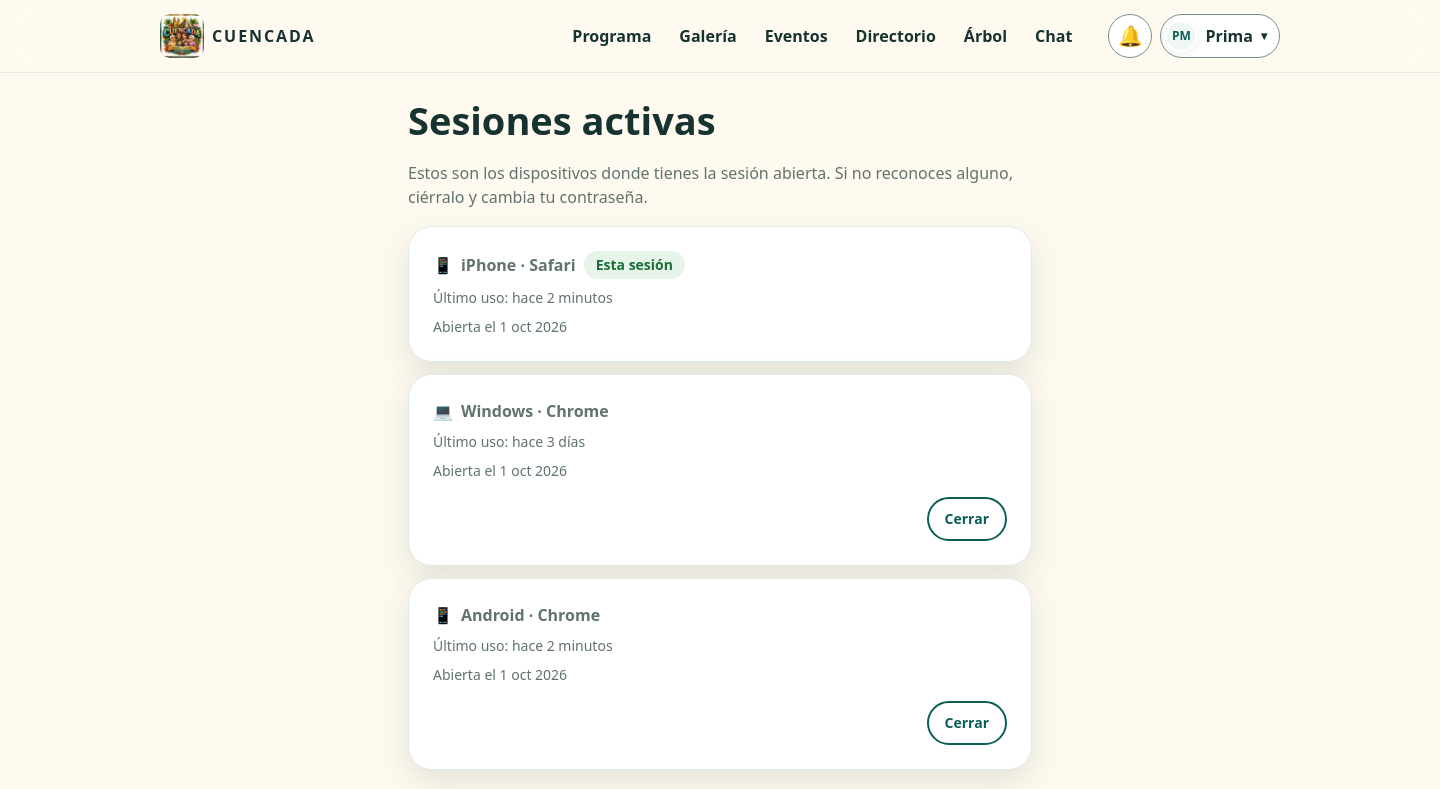
Scenario: SessionsPage › revokes one session and refreshes the list
This screenshot has width=1440, height=789.
Click the button with aria-label "Cerrar la sesión de Windows · Chrome" at (967, 519), box [927, 497, 1007, 541]
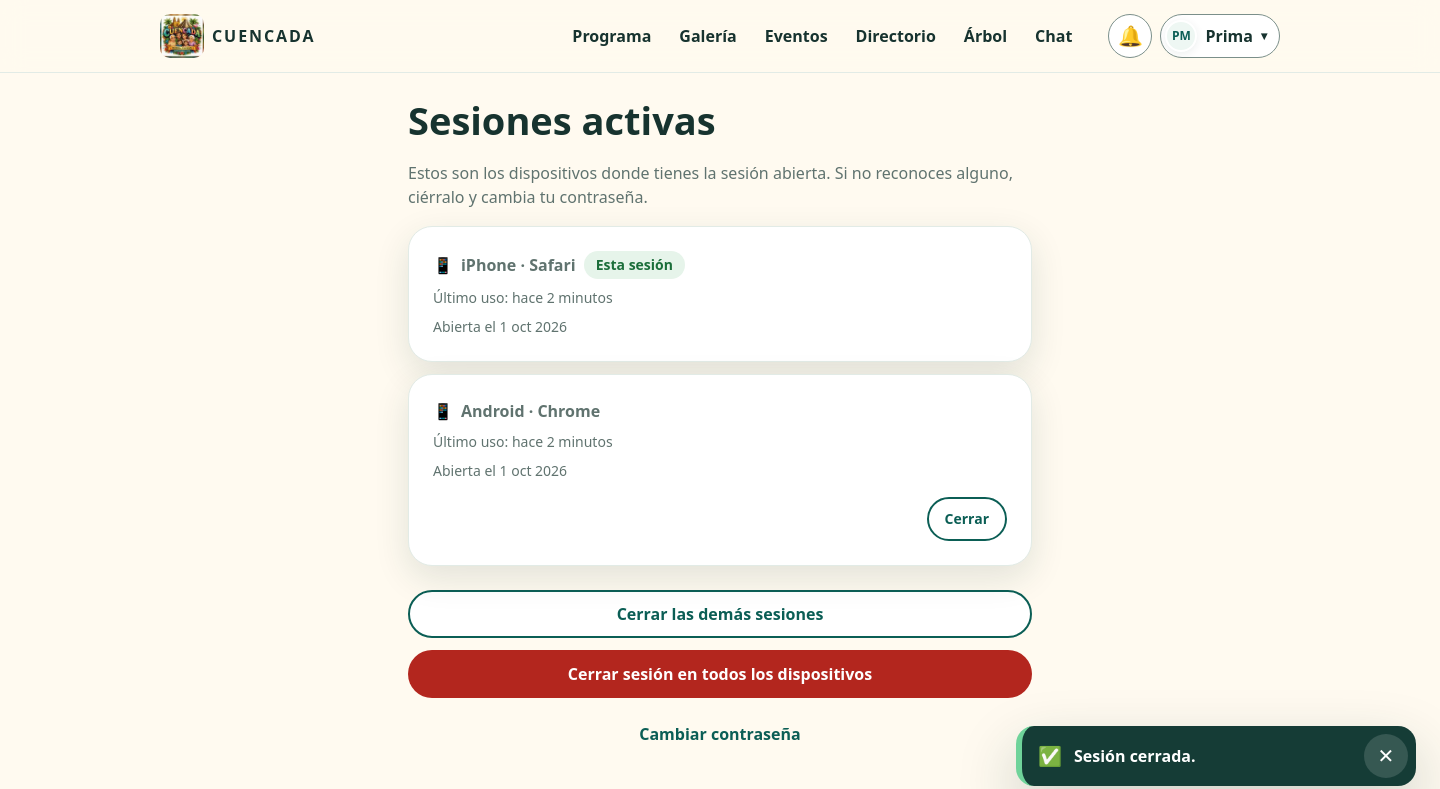
Expected: the text "Windows · Chrome" is gone
Expected: the text "Sesión cerrada." is shown, [1074, 745, 1196, 767]
